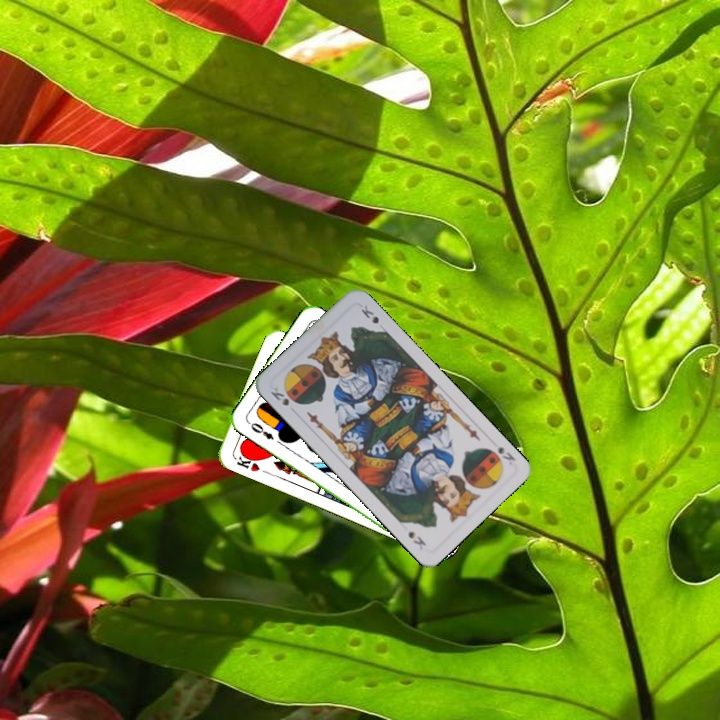EO: (244, 417, 276, 442)
HK: (230, 448, 262, 474)
SK: (266, 383, 292, 408), (494, 443, 518, 468)
